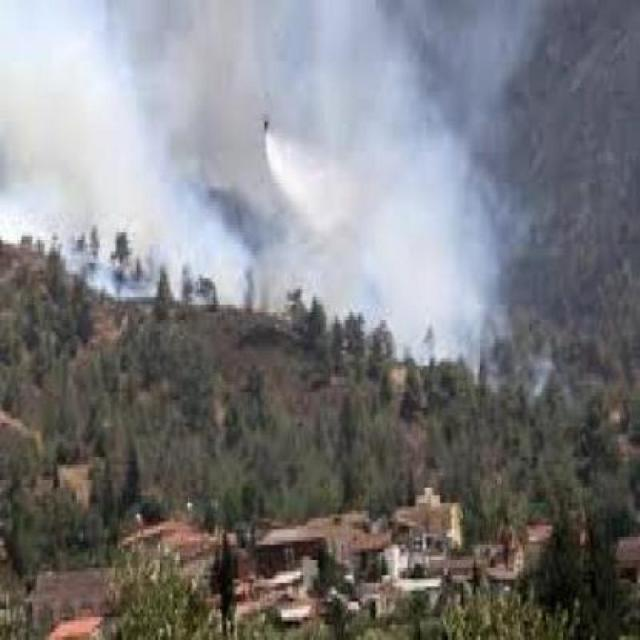Smoke: (232, 151, 494, 372), (2, 150, 208, 308)
